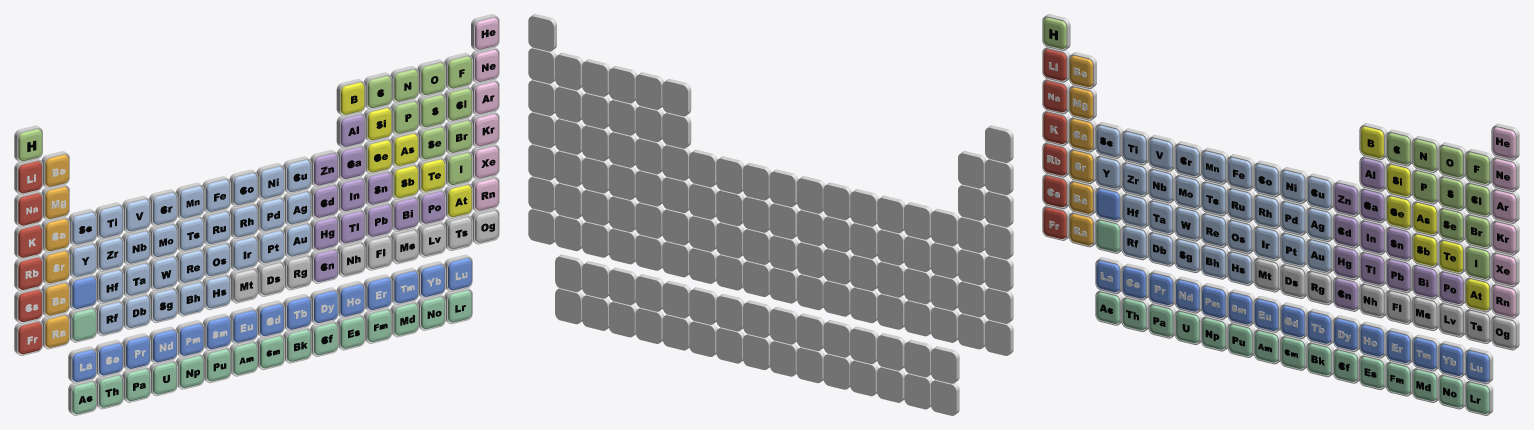
Rendered from pereiodic_table.fbx.
3 renders of one model, left to right at view 1: azimuth 30°, elevation 25°; view 2: azimuth 150°, elevation 25°; view 3: azimuth 330°, elevation 25°, orthographic.
Visible parts, largest first — view 1: typeMesh28, typeMesh55, pCube130, typeMesh29, typeMesh54, typeMesh110, pCube115, pCube206, typeMesh82, typeMesh71, pCube127, typeMesh61 (+108 smaller); view 2: pCube120, pCube4, pCube171, pCube187, pCube119, pCube195, pCube69, pCube109, pCube85, pCube61, pCube132, pCube223 (+108 smaller); view 3: typeMesh82, typeMesh3, pCube76, typeMesh72, typeMesh74, pCube64, pCube70, typeMesh43, typeMesh50, pCube115, pCube158, pCube198 (+108 smaller).
Part boxes in pixels (x1,y1,x2,y2): typeMesh28: (179, 186, 203, 218); typeMesh55: (340, 243, 364, 275); pCube130: (367, 108, 391, 140); typeMesh29: (179, 218, 203, 250); typeMesh54: (340, 211, 364, 243); typeMesh110: (206, 349, 230, 381); pCube115: (340, 179, 364, 211); pCube206: (206, 317, 230, 349); typeMesh82: (340, 82, 364, 114); typeMesh71: (367, 140, 391, 172); pCube127: (367, 172, 391, 204); typeMesh61: (367, 204, 391, 236); pCube120: (662, 79, 691, 116); pCube4: (985, 125, 1013, 162); pCube171: (528, 14, 556, 51); pCube187: (931, 346, 959, 383); pCube119: (662, 112, 691, 148); pCube195: (877, 333, 905, 370); pCube69: (823, 182, 851, 219); pCube109: (689, 149, 717, 187); pCube85: (769, 169, 798, 206); pCube61: (850, 189, 878, 226); pCube132: (635, 72, 663, 109); pCube223: (689, 287, 717, 324); typeMesh82: (1360, 126, 1383, 158); typeMesh3: (1043, 80, 1066, 112); pCube76: (1228, 157, 1251, 189); typeMesh72: (1413, 202, 1436, 234); typeMesh74: (1466, 215, 1489, 247); pCube64: (1202, 214, 1225, 246); pCube70: (1228, 252, 1251, 284); typeMesh43: (1281, 265, 1304, 297); typeMesh50: (1334, 246, 1357, 278); pCube115: (1360, 221, 1383, 253); pCube158: (1466, 310, 1489, 342); pCube198: (1176, 280, 1199, 311).
Size of the model in its own units: 535 by 315 by 9.22.
